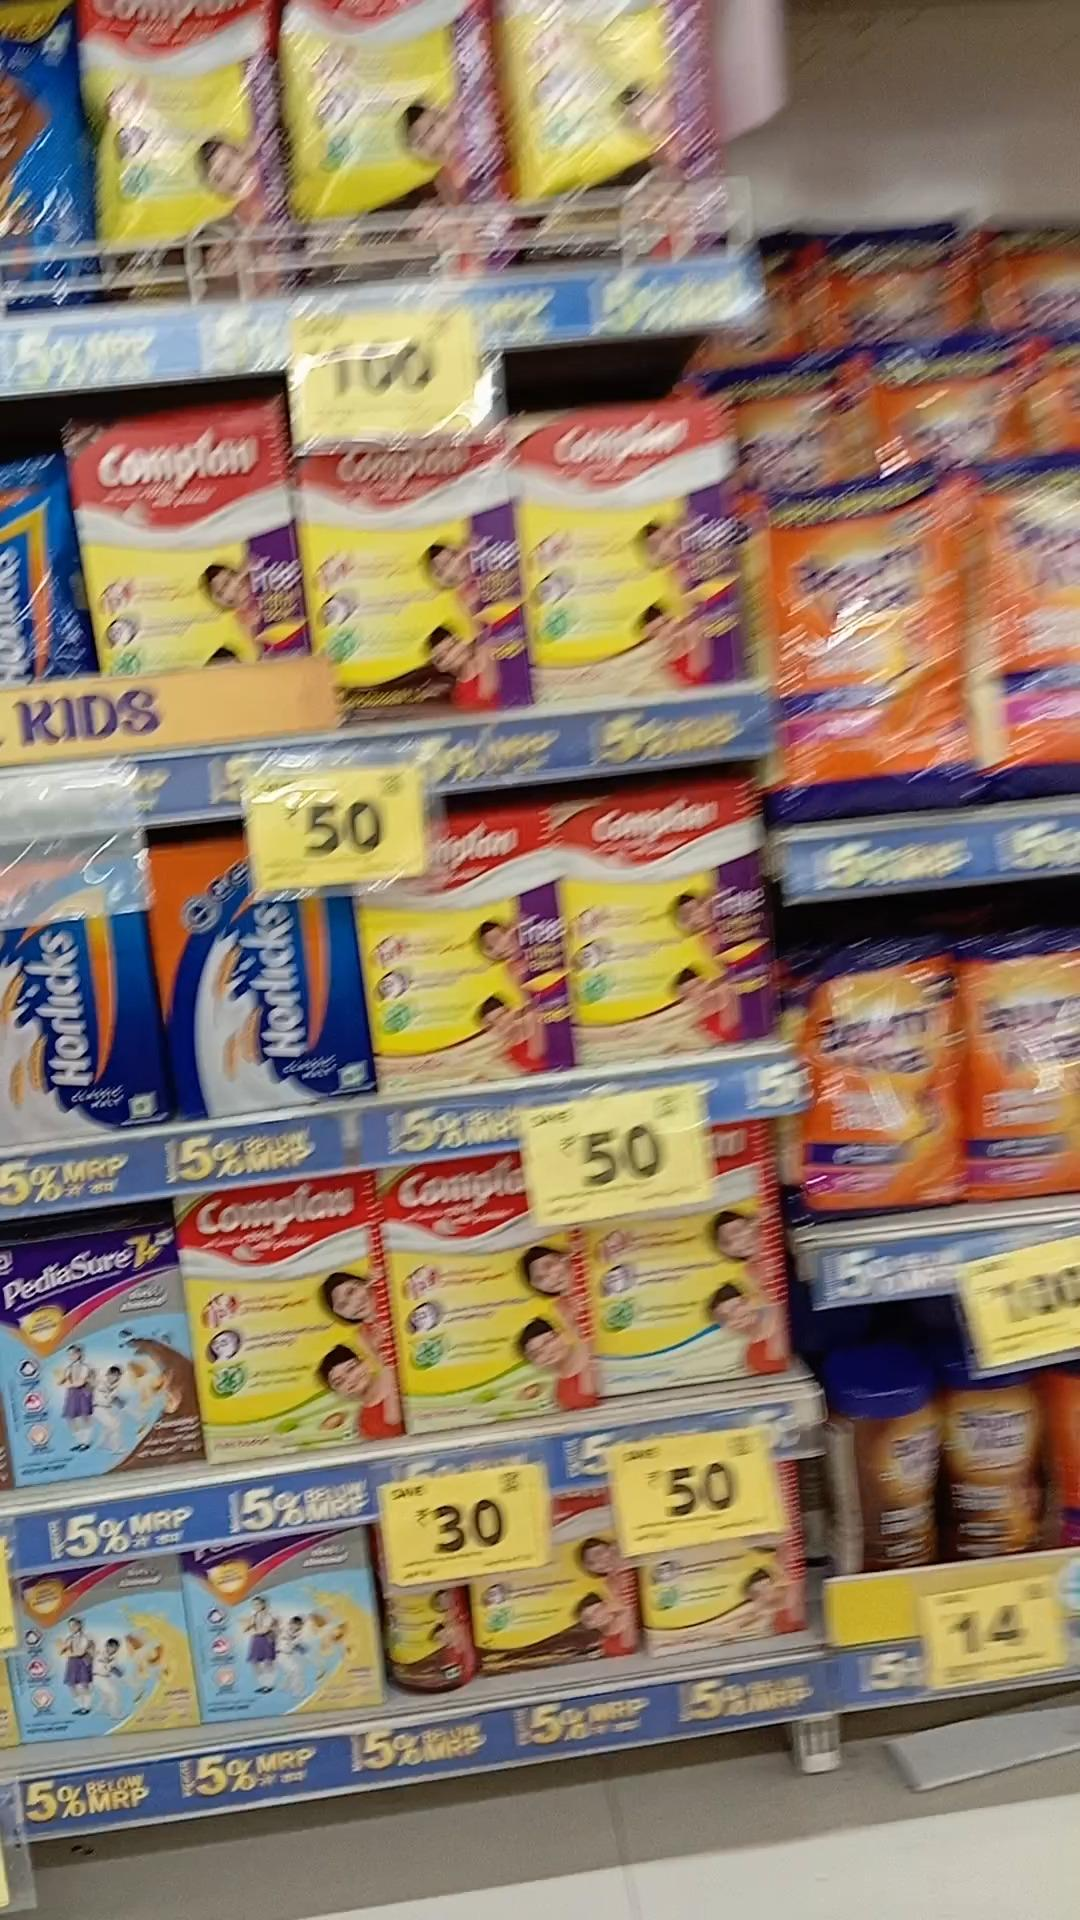COMPLAN_CHOCOLATE_500_GMS_PACK: (299, 450, 526, 717)
COMPLAN_KESAR_BADAM_500_GMS_PACK: (534, 413, 746, 703), (570, 785, 773, 1059), (373, 810, 562, 1076)
COMPLAN_PISTA_BADAM_500_GMS_PACK: (390, 1163, 587, 1435), (191, 1182, 386, 1451)
HORLICK_CLASSIC_MALT_500_G_PACK: (156, 836, 363, 1108), (0, 849, 148, 1135)
